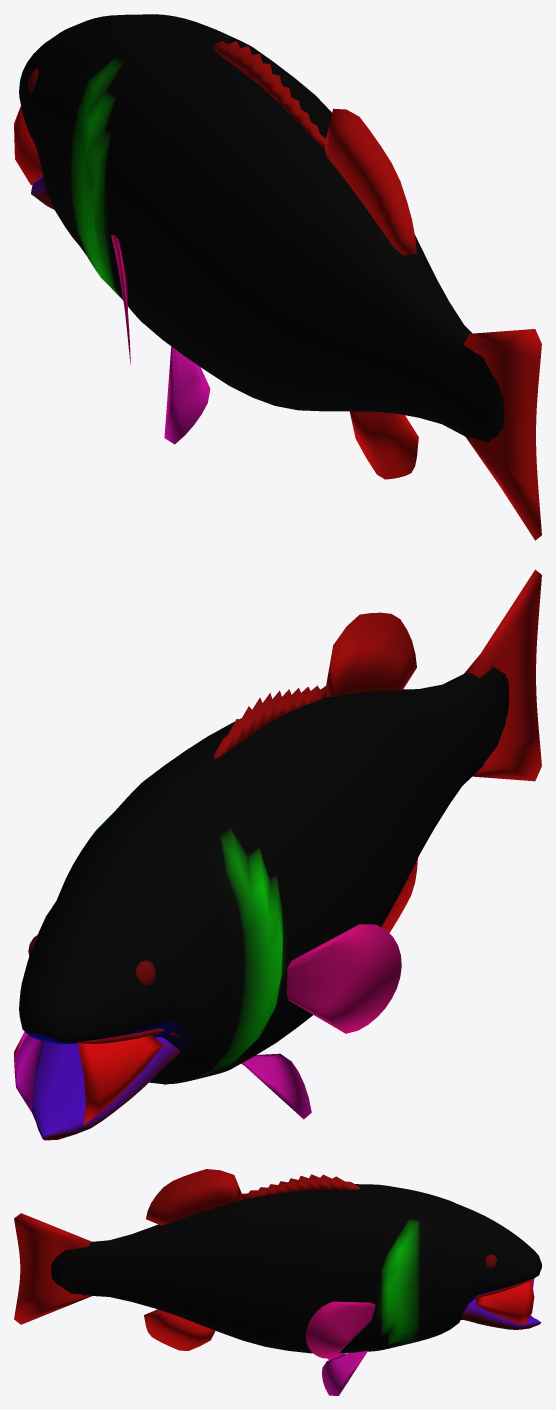
The model's file is giant_sea_bass_game.glb.
3 views of the same model, one above another, from view 1: azimuth 30°, elevation 25°; view 2: azimuth 150°, elevation 25°; view 3: azimuth 270°, elevation 25° (orthographic). The views are drawn at different scales.
Parts seen in each view (by area): view 1: giant_sea_bass_game; view 2: giant_sea_bass_game; view 3: giant_sea_bass_game.
Part boxes in pixels (bbox=[...]): giant_sea_bass_game: bbox=[14, 14, 541, 540]; giant_sea_bass_game: bbox=[14, 569, 541, 1140]; giant_sea_bass_game: bbox=[14, 1169, 541, 1395].
Size of the model in its own units: 0.6213 by 0.8632 by 1.98.
